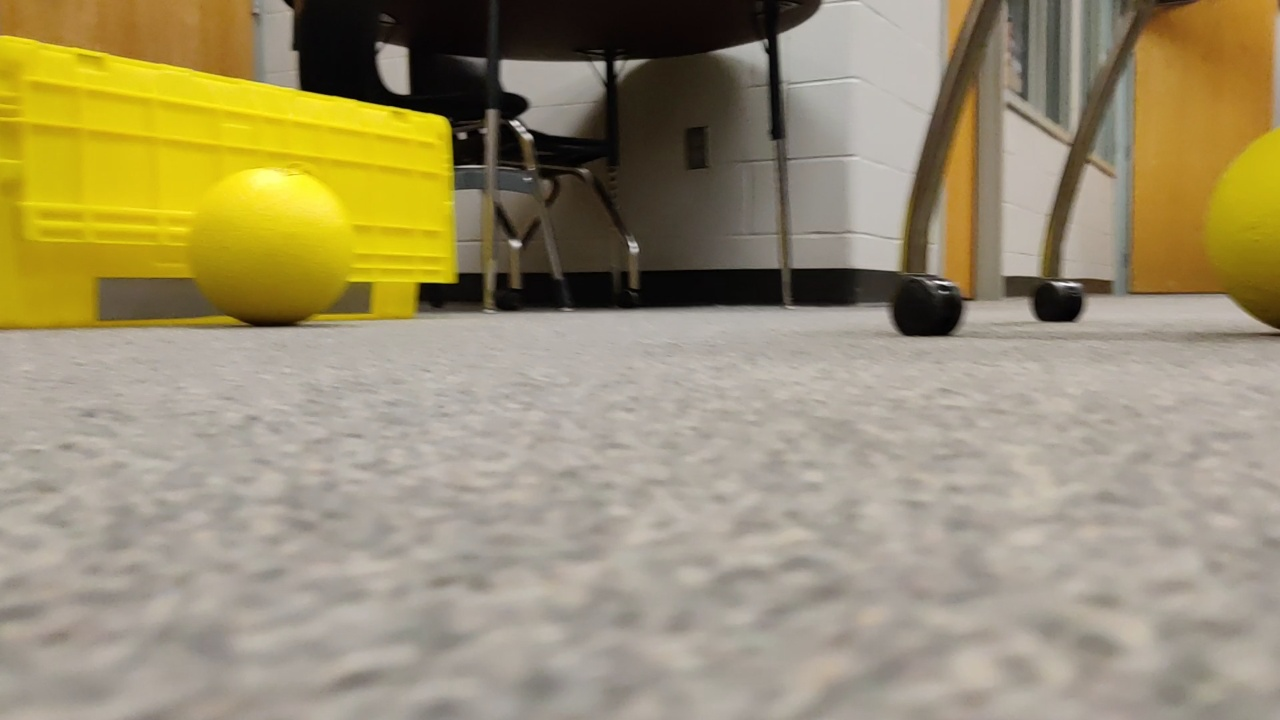Ball: (187, 165, 361, 330), (1203, 121, 1280, 331)
